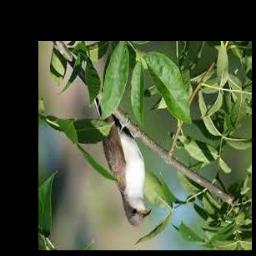Cuckoo: (91, 89, 152, 227)
